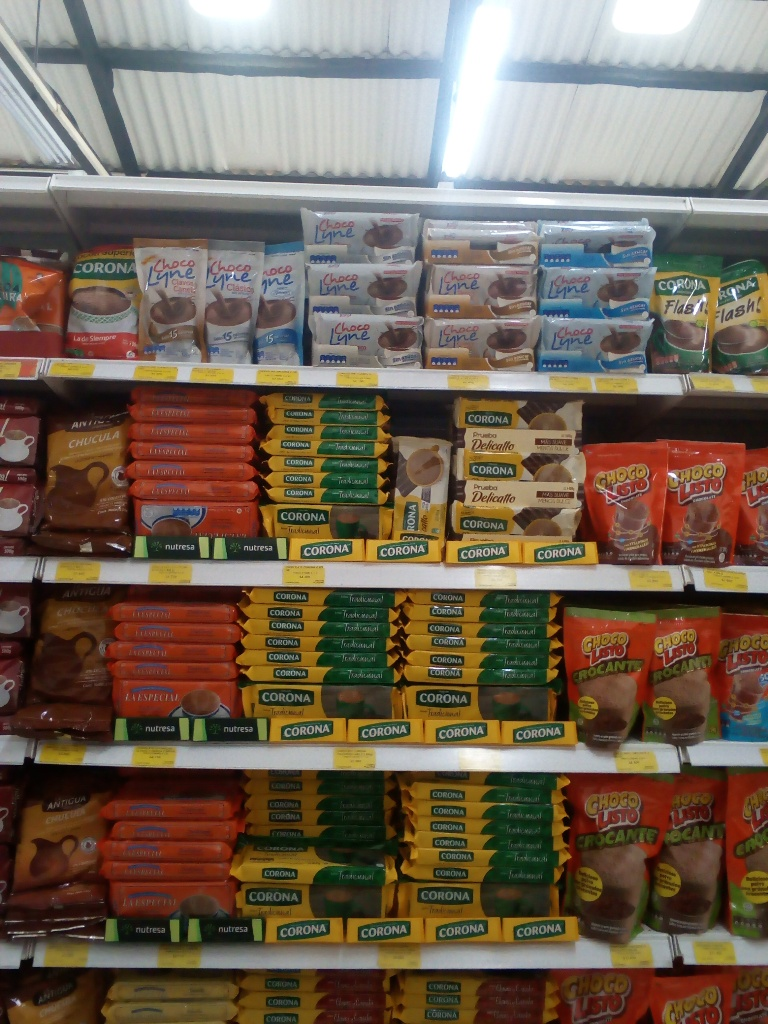COL0170102DYP50000: (645, 772, 737, 936)
COL0170104DYP20000: (716, 611, 764, 740)
